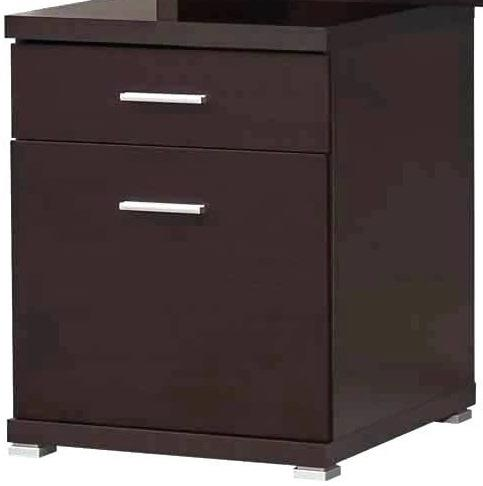cabinet_door: (22, 152, 330, 431), (19, 54, 330, 148)
handle: (113, 188, 214, 226), (114, 84, 214, 115)
